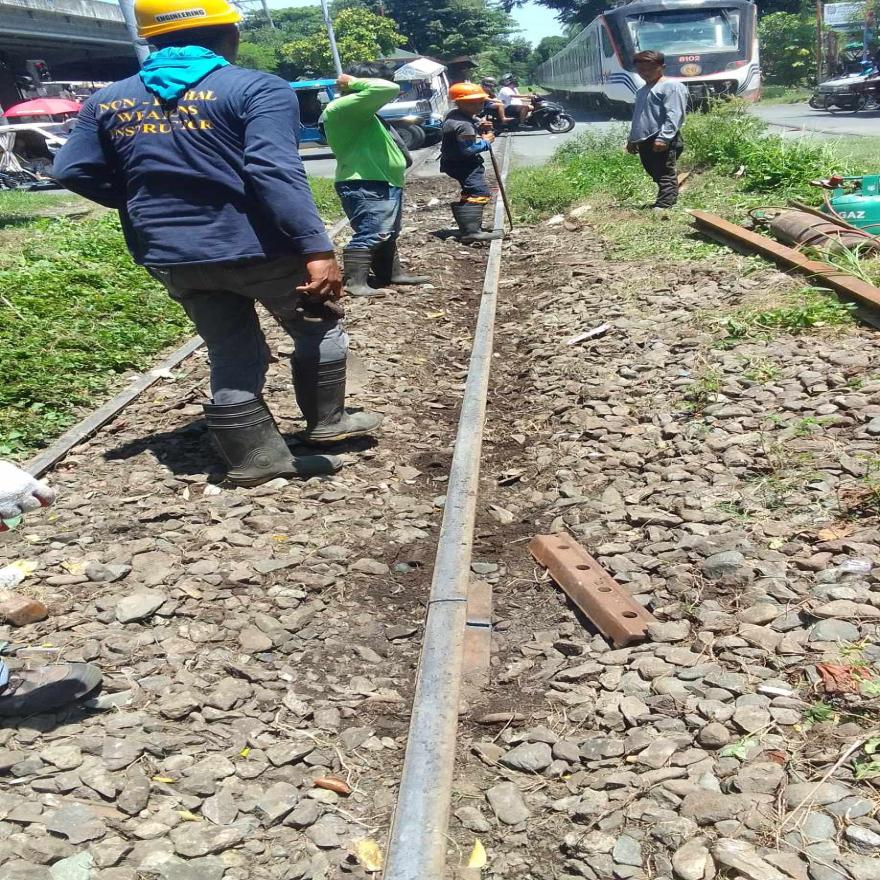railway-gap: (388, 573, 511, 637)
